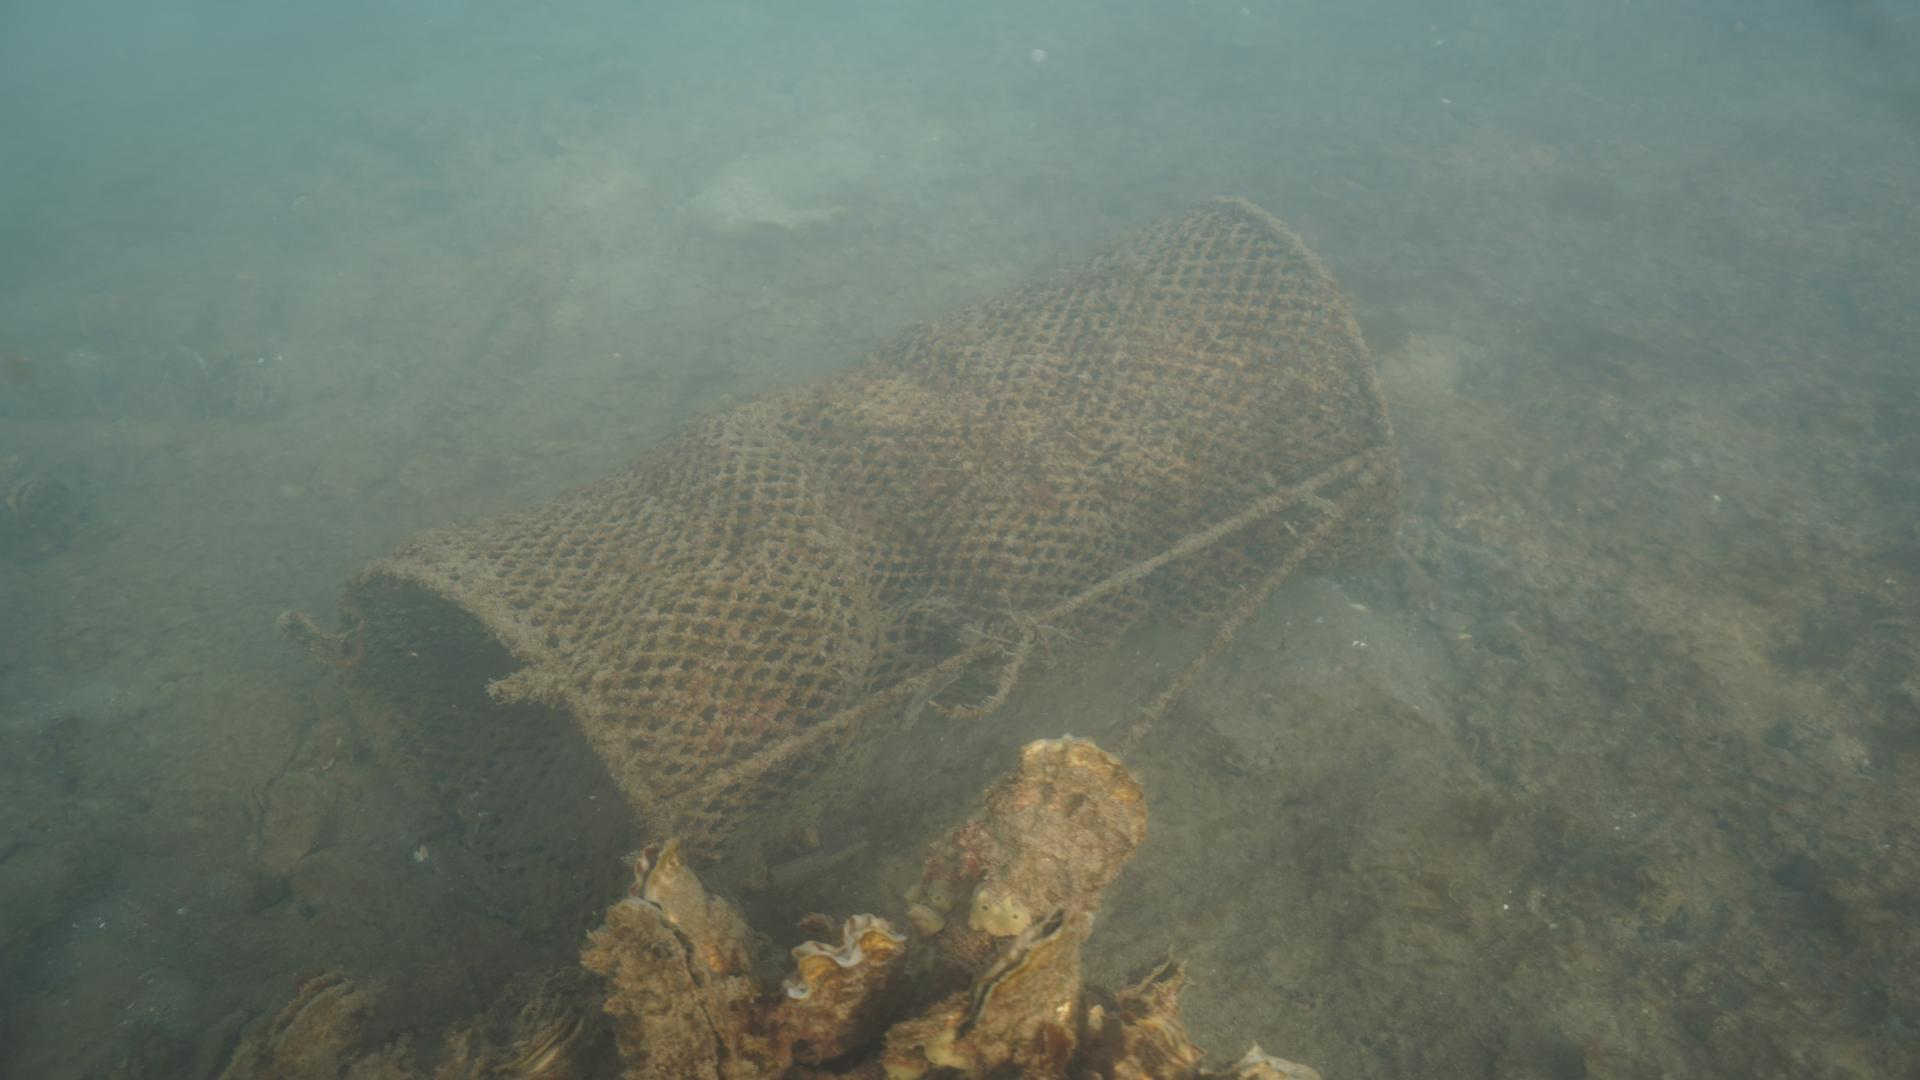rope: (1106, 451, 1386, 761)
spring fish trap: (328, 185, 1404, 960)
